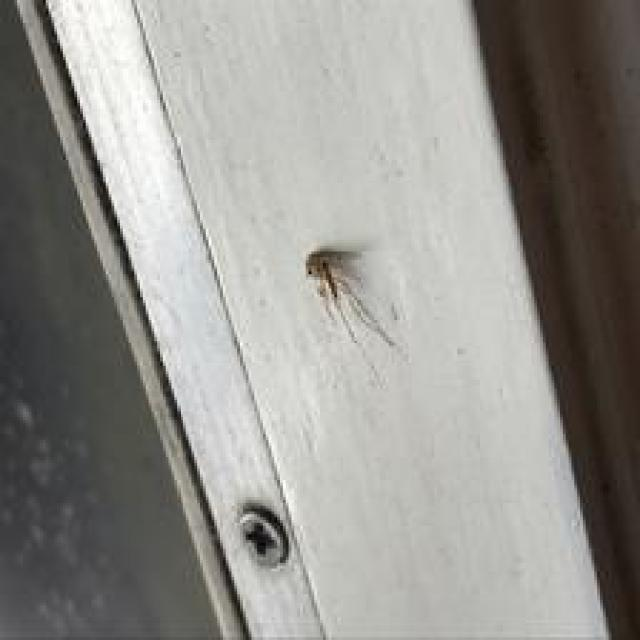Culex: (304, 248, 399, 352)
